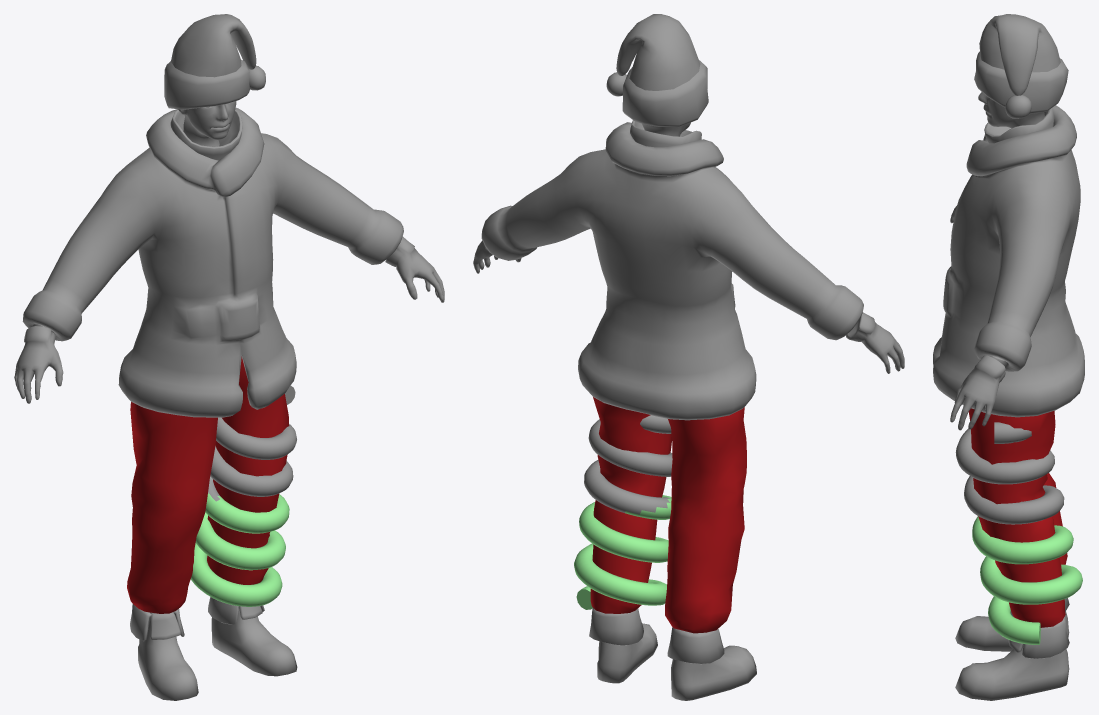
Rendered from SantaExampleSource.FBX.
3 views of the same model, side by side, from view 1: azimuth 30°, elevation 25°; view 2: azimuth 150°, elevation 25°; view 3: azimuth 270°, elevation 25° (orthographic).
Parts seen in each view (by area): view 1: EthanSantaJaketL, EthanSantaPantsL, EthanBodyO, Helix01, EthanSantaHatL; view 2: EthanSantaJaketL, EthanSantaPantsL, EthanBodyO, Helix01, EthanSantaHatL; view 3: EthanSantaJaketL, Helix01, EthanBodyO, EthanSantaPantsL, EthanSantaHatL.
Part boxes in pixels (left/top/right/bottom): EthanSantaJaketL: left=22, top=107, right=403, bottom=417; EthanSantaPantsL: left=127, top=356, right=289, bottom=613; EthanBodyO: left=14, top=101, right=444, bottom=700; Helix01: left=190, top=385, right=296, bottom=606; EthanSantaHatL: left=164, top=14, right=265, bottom=109; EthanSantaJaketL: left=481, top=122, right=863, bottom=420; EthanSantaPantsL: left=590, top=397, right=746, bottom=633; EthanBodyO: left=473, top=120, right=904, bottom=700; Helix01: left=574, top=415, right=672, bottom=609; EthanSantaHatL: left=606, top=14, right=708, bottom=127; EthanSantaJaketL: left=933, top=105, right=1084, bottom=417; Helix01: left=955, top=422, right=1082, bottom=644; EthanBodyO: left=950, top=92, right=1069, bottom=700; EthanSantaPantsL: left=968, top=408, right=1067, bottom=627; EthanSantaHatL: left=974, top=14, right=1068, bottom=118.
Bounding box in the file's own units: 108 × 159 × 33.36.
